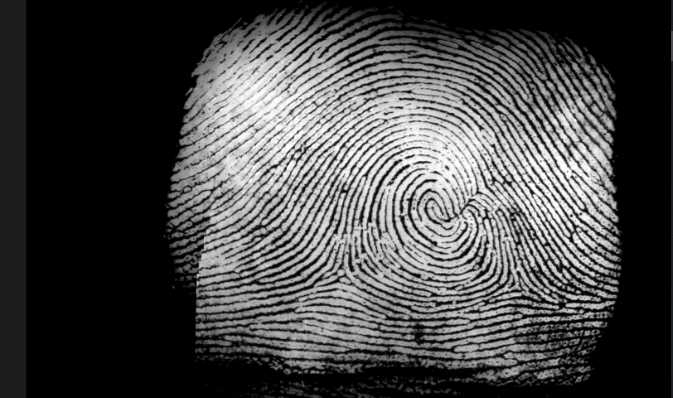deltas: (317, 237, 368, 289), (497, 258, 545, 305)
nucleo: (406, 182, 463, 232)
